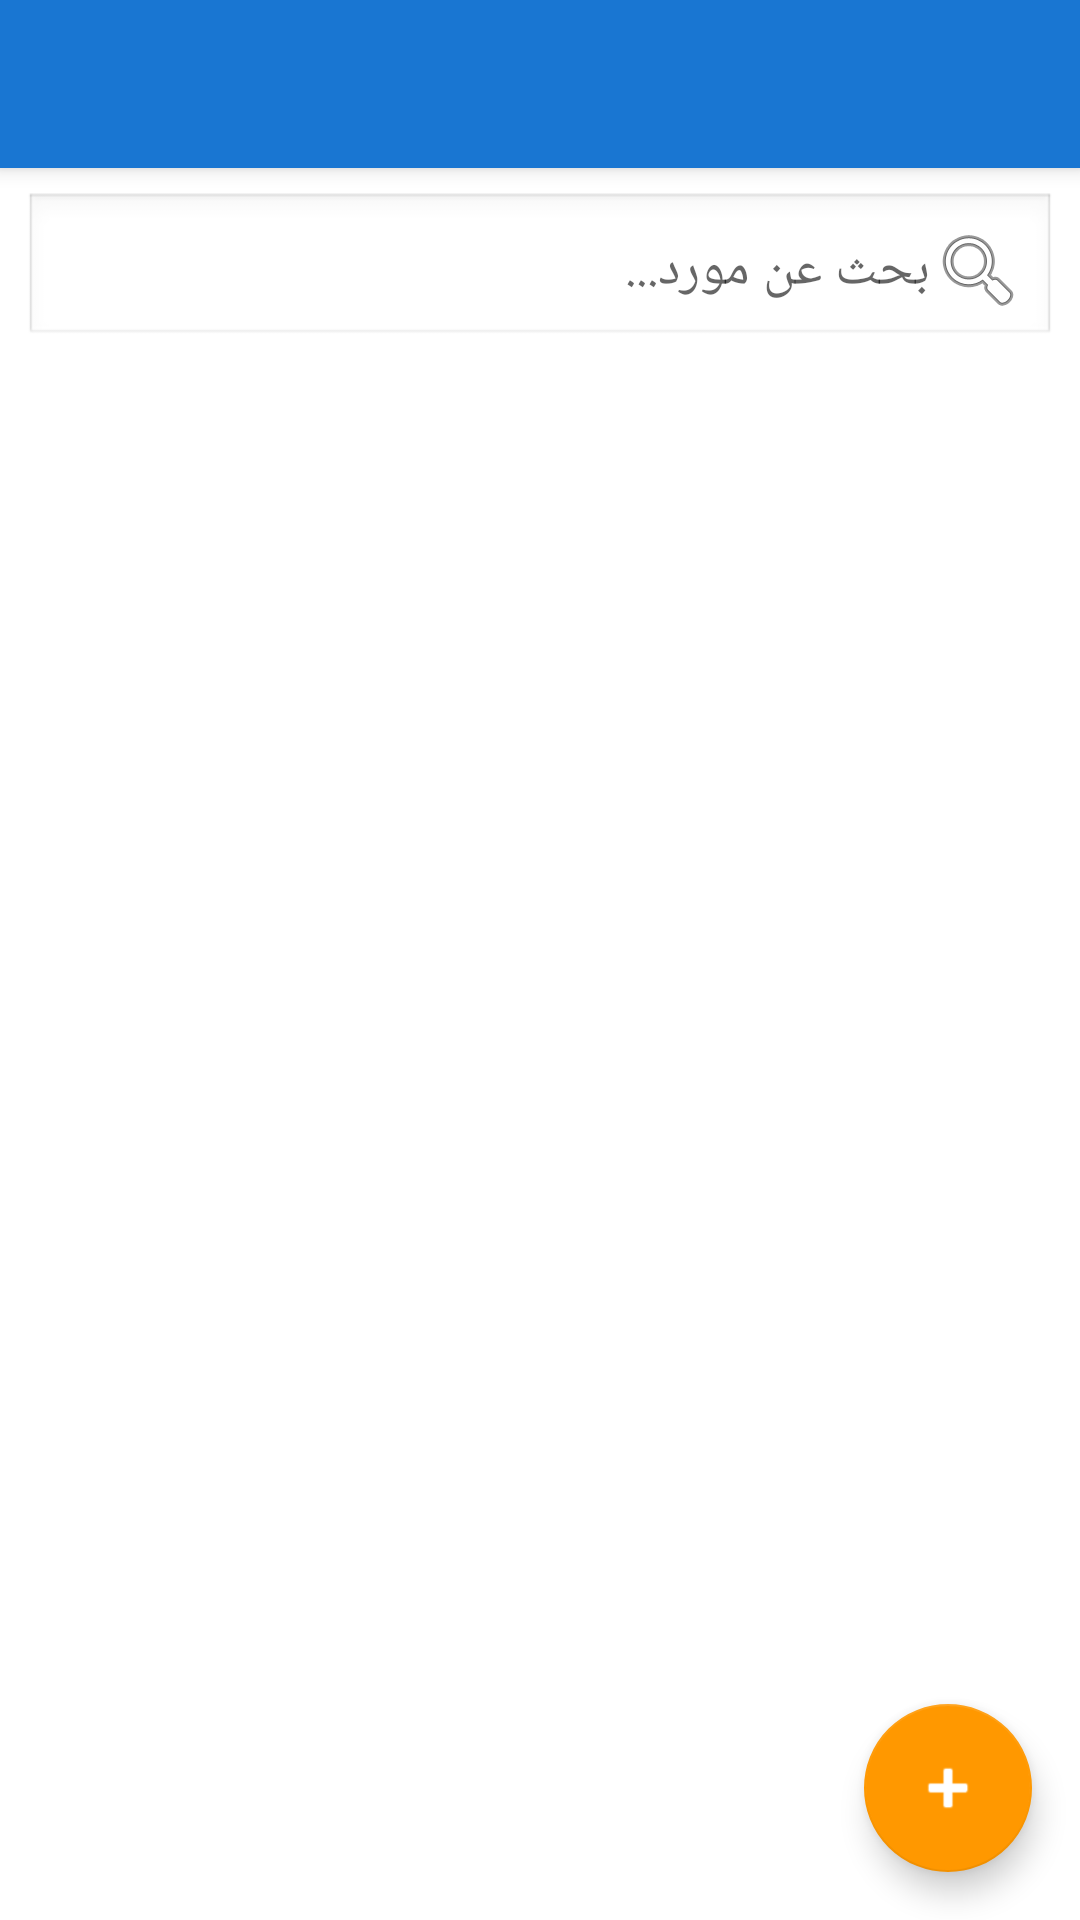

Named icons in this screenshot (1080 × 1920) and their bounding boxes, (x1, y1, x2, y2):
إضافة مورد: (864, 1704, 1032, 1872)
